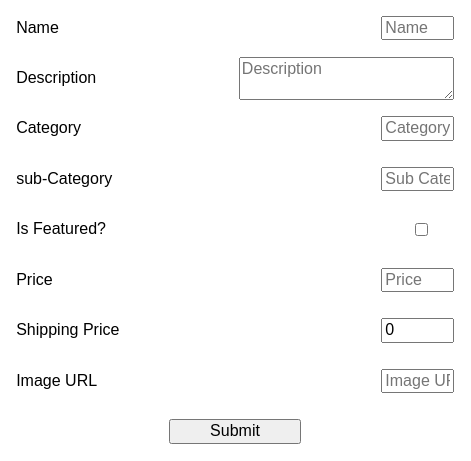
Test case: fields display correct input › Sub Category field displays correct input
Click the field with placeholder "Sub Category" at point(418, 179), box [381,167,454,191]
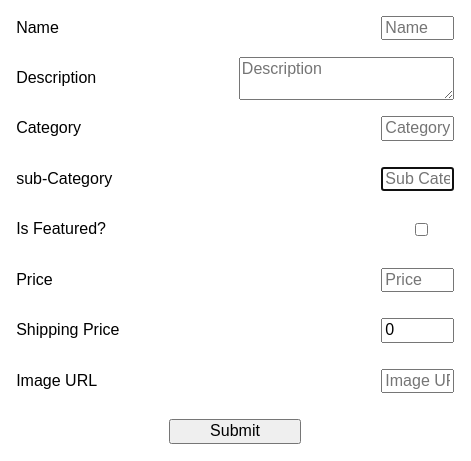
Type keys "test 123"
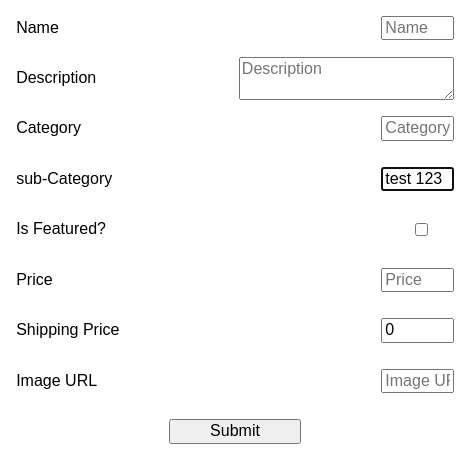
Expected: the field with placeholder "Sub Category" holds "test 123", [381,167,454,191]
